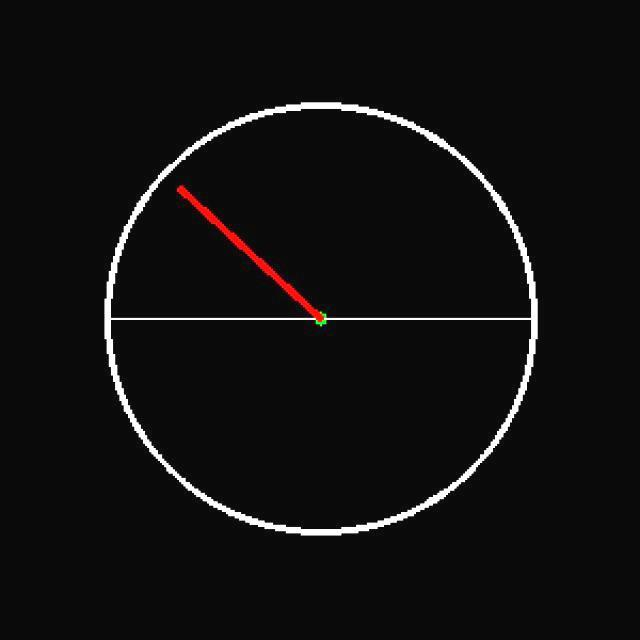Needle_Tip: (169, 171, 200, 217)
Needle_base: (284, 280, 357, 342)
